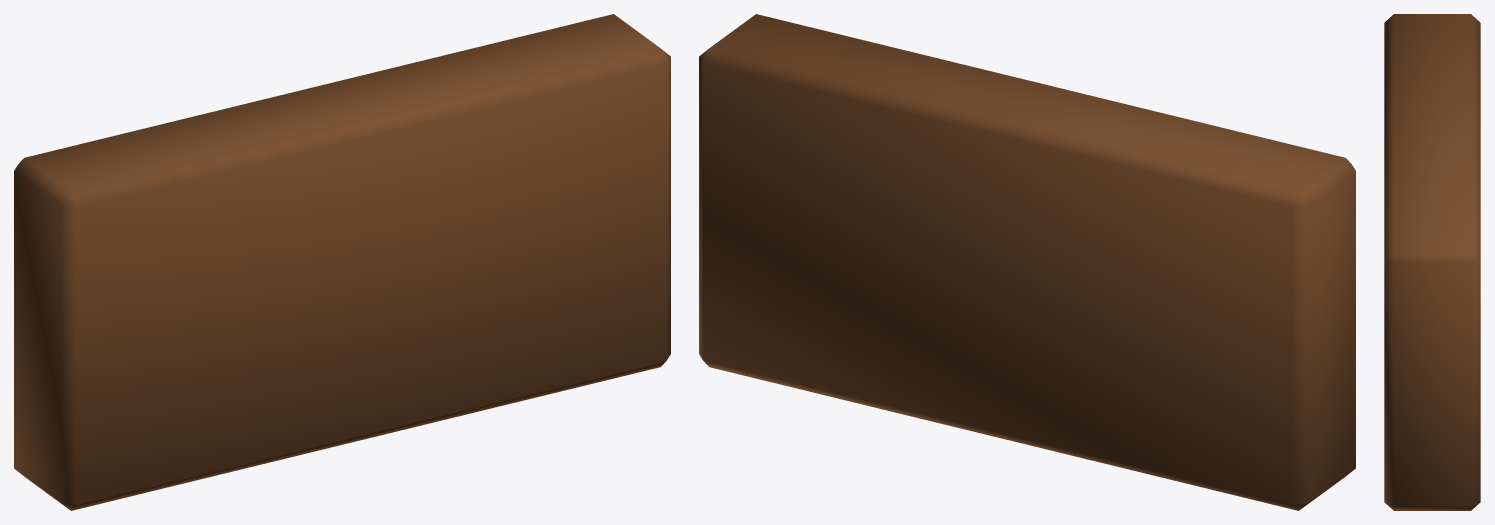
Rendered from button.bg.003.glb.
The picture shows the model from 3 angles, left to right: view 1: azimuth 30°, elevation 25°; view 2: azimuth 150°, elevation 25°; view 3: azimuth 270°, elevation 25°; orthographic projection. The views are drawn at different scales.
Visible parts, largest first — view 1: button.bg.003; view 2: button.bg.003; view 3: button.bg.003.
Boxes of the visible parts, x1,y1,x2,y2 form: button.bg.003: (14,14,670,510); button.bg.003: (699,14,1355,510); button.bg.003: (1384,14,1480,510).
Size of the model in its own units: 3 by 1.5 by 0.5.
